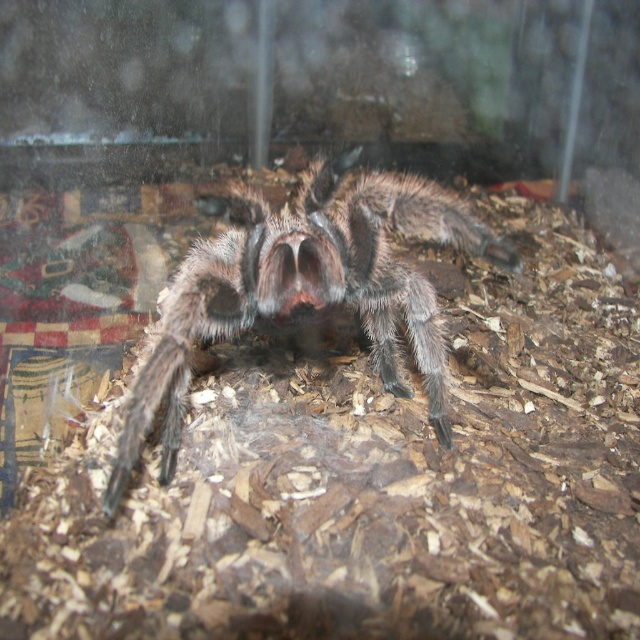Crab: (84, 139, 536, 525)
